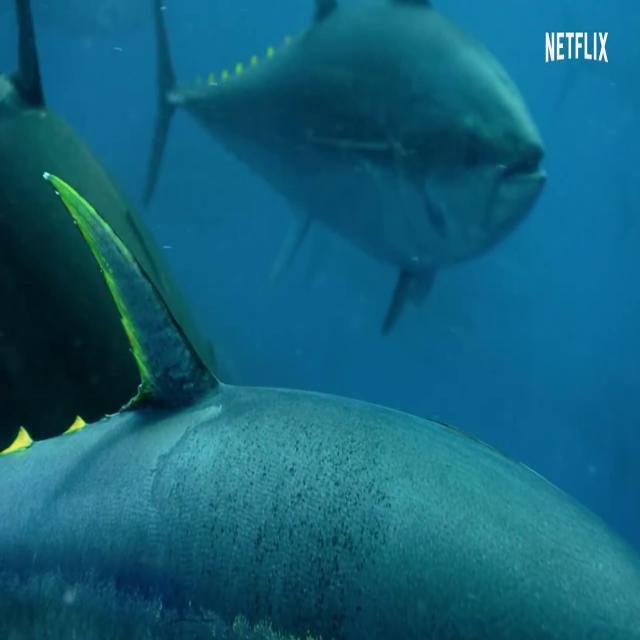fish: (0, 170, 640, 640), (138, 0, 554, 338), (0, 0, 221, 415)
